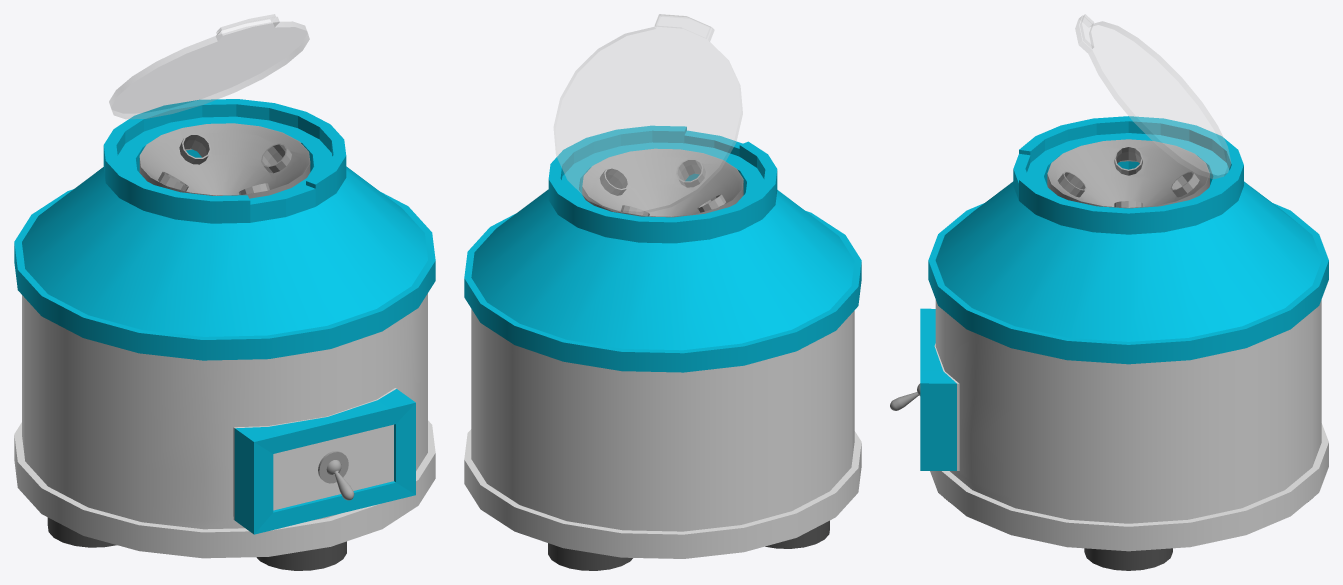
Rendered from centrifuge.fbx.
The picture shows the model from 3 angles, left to right: view 1: azimuth 30°, elevation 25°; view 2: azimuth 150°, elevation 25°; view 3: azimuth 270°, elevation 25°; orthographic projection. The views are drawn at different scales.
Parts seen in each view (by area): view 1: polySurface1, pCylinder1, polySurface5, pCylinder6, pCylinder4, pPipe5; view 2: polySurface1, pCylinder1, polySurface5, pCylinder5, pCylinder4; view 3: polySurface1, pCylinder1, polySurface5, pCylinder3.
Boxes of the visible parts, x1,y1,x2,y2 form: polySurface1: [14, 99, 435, 558]; pCylinder1: [109, 14, 309, 118]; polySurface5: [139, 123, 310, 198]; pCylinder6: [256, 541, 346, 570]; pCylinder4: [47, 517, 116, 547]; pPipe5: [318, 451, 348, 483]; polySurface1: [464, 125, 861, 558]; pCylinder1: [553, 14, 742, 213]; polySurface5: [582, 148, 743, 217]; pCylinder5: [548, 543, 632, 570]; pCylinder4: [765, 520, 829, 548]; polySurface1: [920, 116, 1328, 551]; pCylinder1: [1075, 14, 1230, 178]; polySurface5: [1047, 139, 1209, 208]; pCylinder3: [1084, 548, 1172, 570].
Size of the model in its own units: 24.89 by 32.11 by 27.27.
